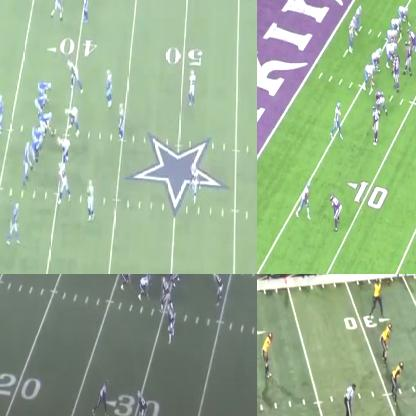CENTER: (42, 110, 55, 137), (386, 40, 396, 57)
DB: (327, 192, 341, 228), (263, 331, 274, 372), (370, 106, 380, 144), (190, 165, 199, 205), (135, 389, 148, 415), (167, 303, 175, 344), (374, 278, 384, 310), (189, 70, 195, 107), (81, 0, 91, 21)
LB: (210, 274, 225, 304), (392, 363, 403, 402), (381, 320, 391, 362), (84, 183, 96, 216), (105, 68, 114, 105), (118, 103, 124, 142), (404, 40, 410, 76)
QB: (349, 14, 357, 45), (0, 92, 3, 133)
SKILL: (298, 178, 312, 218), (8, 203, 20, 243), (23, 141, 31, 188), (49, 0, 65, 23), (331, 101, 342, 134), (99, 380, 109, 416), (138, 274, 151, 297), (161, 276, 170, 303), (398, 2, 408, 16), (122, 274, 131, 287), (356, 2, 363, 16)
